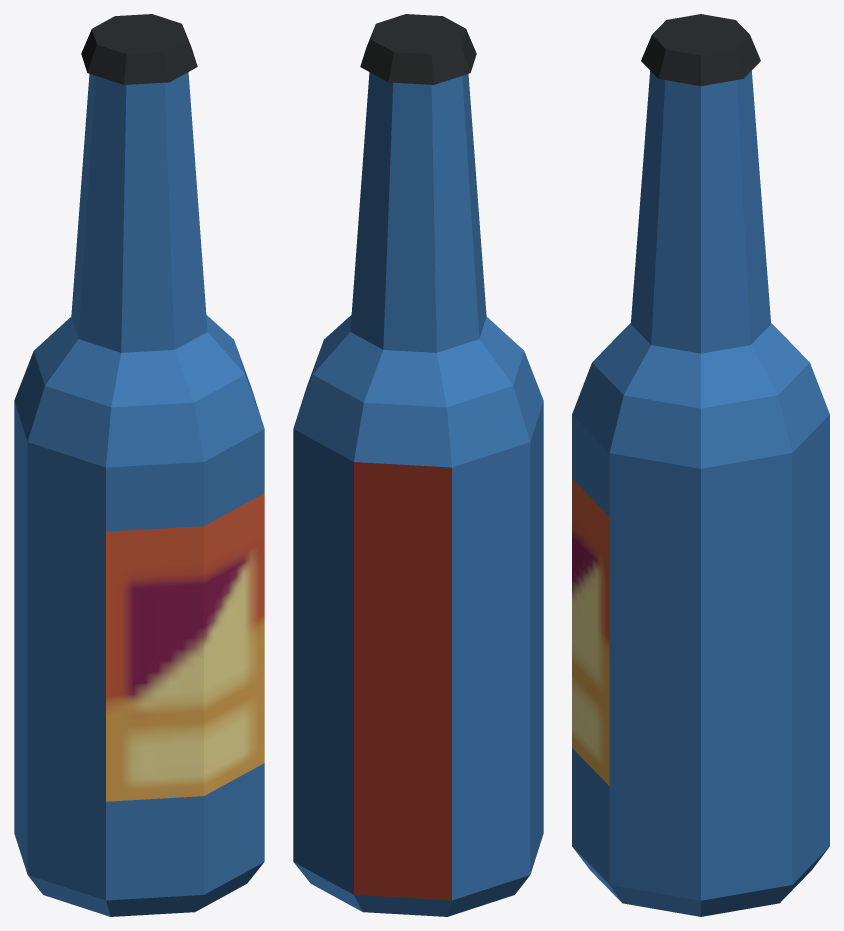
The model's file is SM_Prop_Bar_Bottle_07.obj.
3 renders of one model, left to right at view 1: azimuth 30°, elevation 25°; view 2: azimuth 150°, elevation 25°; view 3: azimuth 270°, elevation 25°, orthographic.
Parts seen in each view (by area): view 1: SM_Prop_Bar_Bottle_07_0; view 2: SM_Prop_Bar_Bottle_07_0; view 3: SM_Prop_Bar_Bottle_07_0.
Boxes of the visible parts, box(x1,y1,x2,y2) form: SM_Prop_Bar_Bottle_07_0: box(14, 14, 264, 916); SM_Prop_Bar_Bottle_07_0: box(293, 14, 543, 916); SM_Prop_Bar_Bottle_07_0: box(572, 14, 829, 916).
Size of the model in its own units: 0.0938 by 0.3354 by 0.0939.
Materials: 1 (1 with a texture image).
